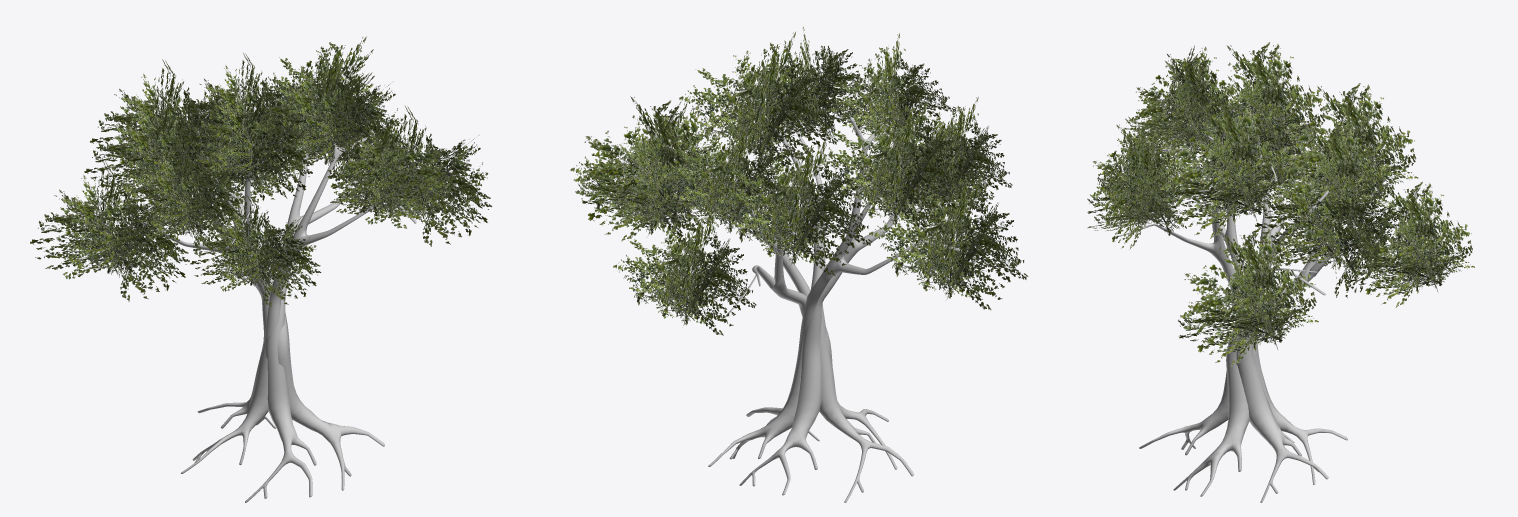
The model's file is Tree_1.fbx.
3 renders of one model, left to right at view 1: azimuth 30°, elevation 25°; view 2: azimuth 150°, elevation 25°; view 3: azimuth 270°, elevation 25°, orthographic. The views are drawn at different scales.
Parts seen in each view (by area): view 1: Tree_1_Leaves, Tree_1_Trunk; view 2: Tree_1_Leaves, Tree_1_Trunk; view 3: Tree_1_Leaves, Tree_1_Trunk.
Boxes of the visible parts, <box> form: Tree_1_Leaves: <box>30,36,492,307</box>; Tree_1_Trunk: <box>123,112,416,502</box>; Tree_1_Leaves: <box>570,26,1028,335</box>; Tree_1_Trunk: <box>634,84,960,502</box>; Tree_1_Leaves: <box>1087,42,1474,366</box>; Tree_1_Trunk: <box>1115,116,1401,502</box>.
Bounding box in the file's own units: 634 × 580 × 538.
